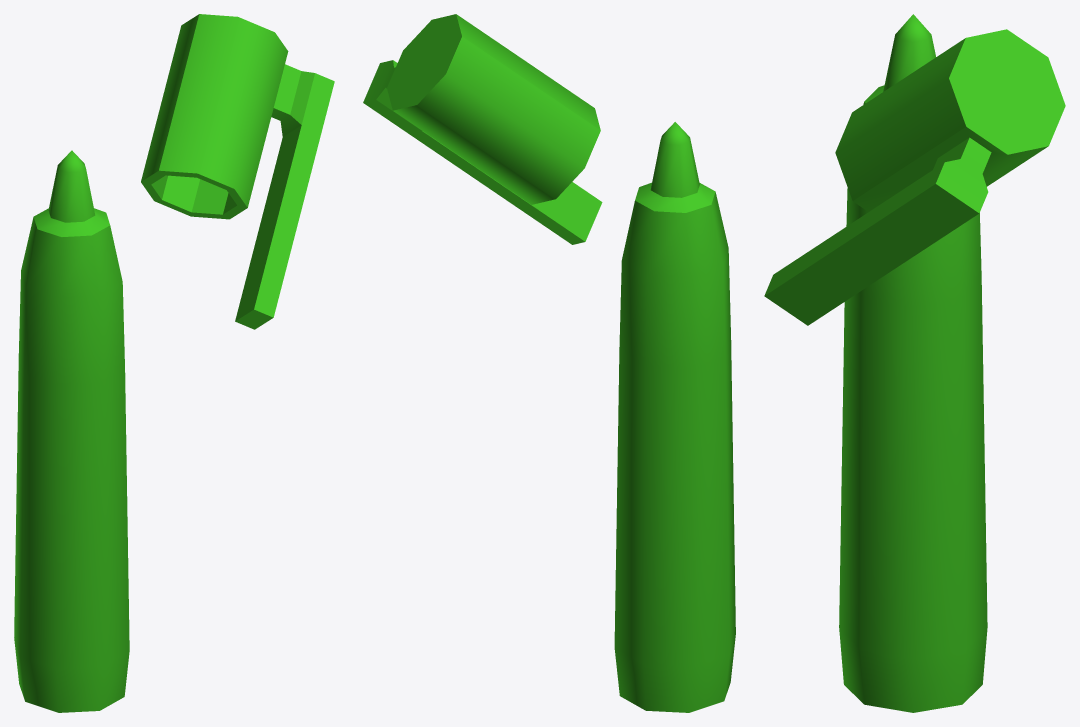
Rendered from filctoll.FBX.
The picture shows the model from 3 angles, left to right: view 1: azimuth 30°, elevation 25°; view 2: azimuth 150°, elevation 25°; view 3: azimuth 270°, elevation 25°; orthographic projection. The views are drawn at different scales.
Parts seen in each view (by area): view 1: filctoll; view 2: filctoll; view 3: filctoll.
Part boxes in pixels (box(x1,y1,x2,y2)): filctoll: box(14, 14, 334, 712); filctoll: box(363, 14, 735, 712); filctoll: box(764, 14, 1065, 712).
Bounding box in the file's own units: 70.94 × 128 × 46.08.
